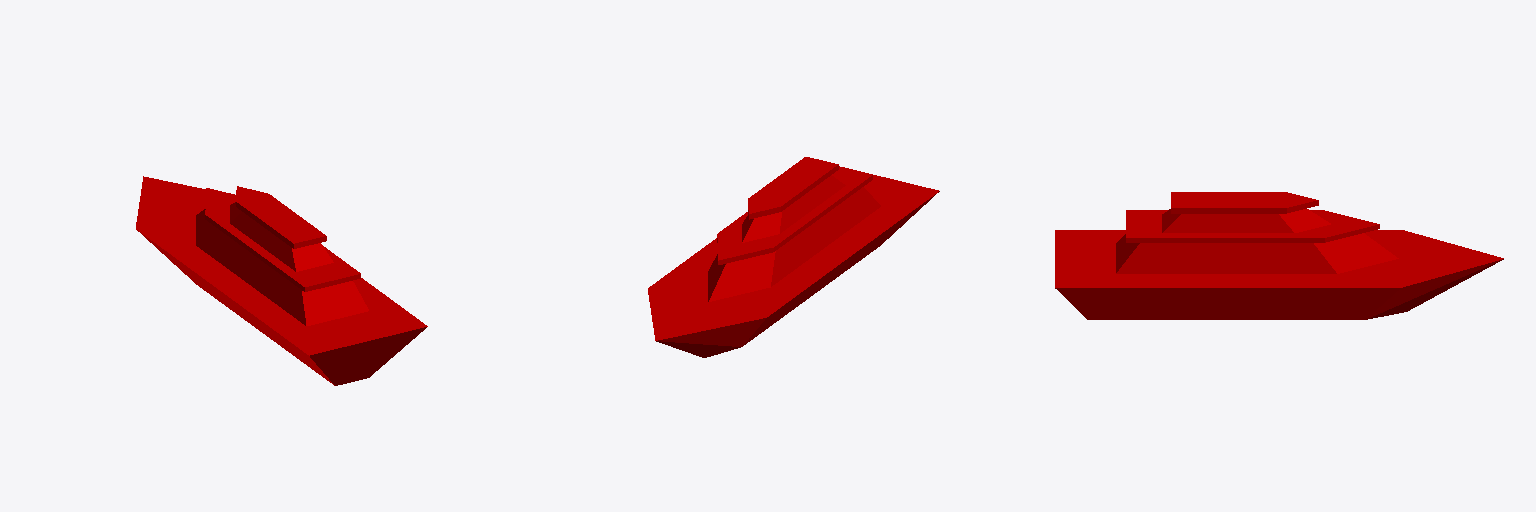
Rendered from SimpleBoat.obj.
3 renders of one model, left to right at view 1: azimuth 30°, elevation 25°; view 2: azimuth 150°, elevation 25°; view 3: azimuth 270°, elevation 25°, orthographic.
Parts seen in each view (by area): view 1: Plane.001; view 2: Plane.001; view 3: Plane.001.
Boxes of the visible parts, box(x1,y1,x2,y2) form: Plane.001: box(136, 176, 427, 385); Plane.001: box(648, 157, 939, 357); Plane.001: box(1055, 192, 1503, 319).
Size of the model in its own units: 0.994 by 0.8887 by 3.25.